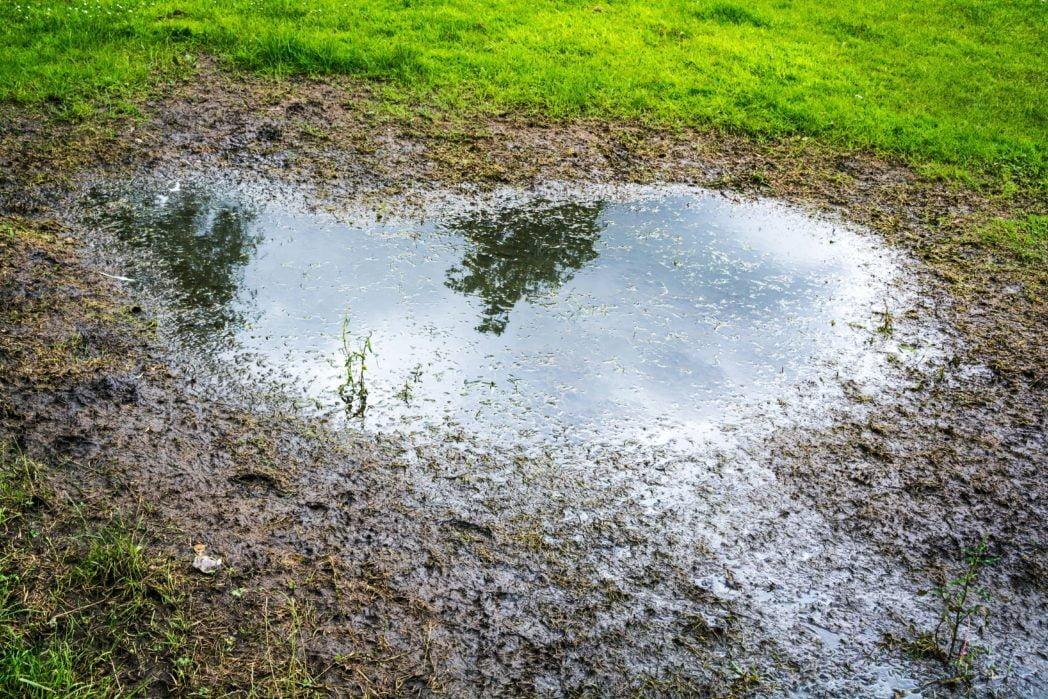Stagnant water: (63, 42, 1015, 699)
